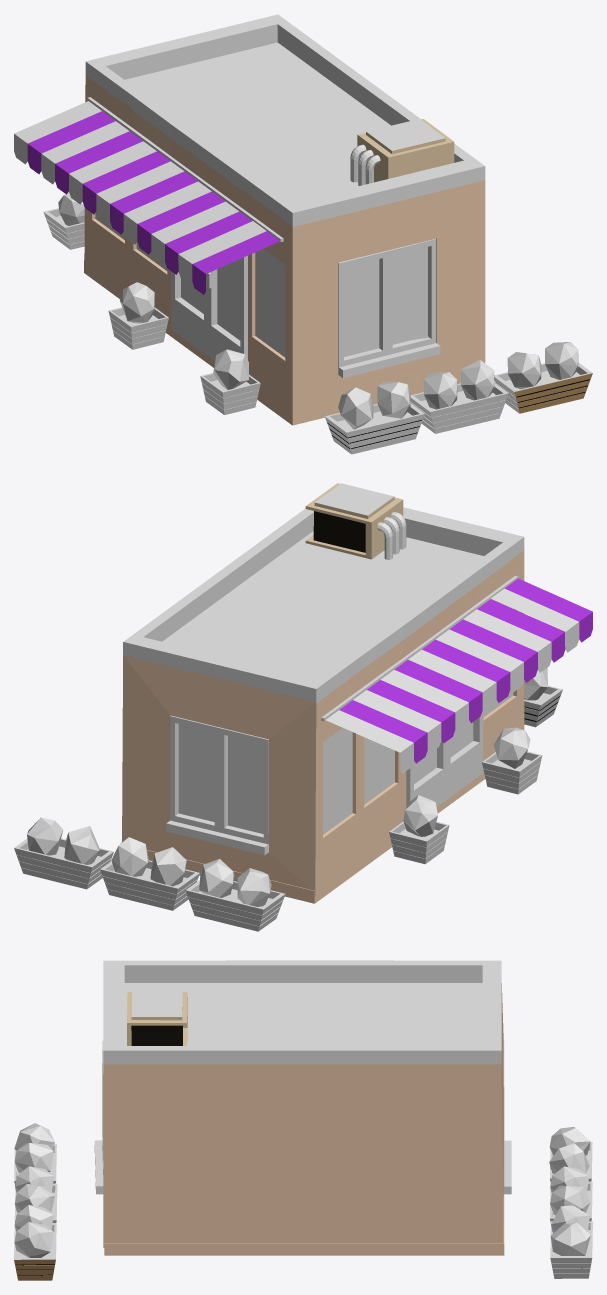
File: casa 1.fbx
3 renders of one model, top to bottom at view 1: azimuth 30°, elevation 25°; view 2: azimuth 150°, elevation 25°; view 3: azimuth 270°, elevation 25°, orthographic. The views are drawn at different scales.
Parts seen in each view (by area): view 1: Tetto, Casa.001, tenda, Icosphere.008, Casa.003, finestra 1, Condizionatore, porta, Finestre frontali, Cube.002, Cube.001, Cube.003 (+9 smaller); view 2: Tetto, Casa.001, tenda, Cube.007, Icosphere.008, finestra 1.003, finestra 1, Finestre frontali, Condizionatore, porta, Livello pavimento, Cube.005 (+8 smaller); view 3: Casa.001, Tetto, Icosphere.008, Livello pavimento, Condizionatore, Cube.007, finestra 1, Cube.001, Condizionatore.001.
Boxes of the visible parts, bbox=[...] form: Tetto: bbox=[85, 14, 485, 226]; Casa.001: bbox=[84, 76, 485, 418]; tenda: bbox=[14, 101, 279, 294]; Icosphere.008: bbox=[58, 192, 578, 429]; Casa.003: bbox=[344, 247, 427, 356]; finestra 1: bbox=[338, 239, 440, 378]; Condizionatore: bbox=[357, 119, 454, 182]; porta: bbox=[171, 255, 247, 361]; Finestre frontali: bbox=[95, 212, 285, 357]; Cube.002: bbox=[325, 403, 424, 454]; Cube.001: bbox=[494, 362, 592, 413]; Cube.003: bbox=[410, 383, 508, 433]; Tetto: bbox=[123, 507, 524, 702]; Casa.001: bbox=[122, 550, 524, 895]; tenda: bbox=[325, 578, 592, 773]; Cube.007: bbox=[14, 838, 285, 931]; Icosphere.008: bbox=[27, 668, 547, 906]; finestra 1.003: bbox=[178, 724, 263, 833]; finestra 1: bbox=[166, 715, 268, 855]; Finestre frontali: bbox=[323, 606, 513, 834]; Condizionatore: bbox=[305, 483, 403, 559]; porta: bbox=[406, 710, 483, 807]; Livello pavimento: bbox=[147, 772, 485, 903]; Cube.005: bbox=[482, 751, 542, 794]; Casa.001: bbox=[103, 983, 503, 1247]; Tetto: bbox=[103, 960, 501, 1064]; Icosphere.008: bbox=[14, 1123, 590, 1257]; Livello pavimento: bbox=[104, 1194, 504, 1255]; Condizionatore: bbox=[127, 992, 187, 1045]; Cube.007: bbox=[550, 1142, 592, 1278]; finestra 1: bbox=[94, 1040, 511, 1194]; Cube.001: bbox=[14, 1223, 56, 1280]; Condizionatore.001: bbox=[131, 1025, 182, 1045].
Size of the model in its own units: 552 by 379 by 868.
